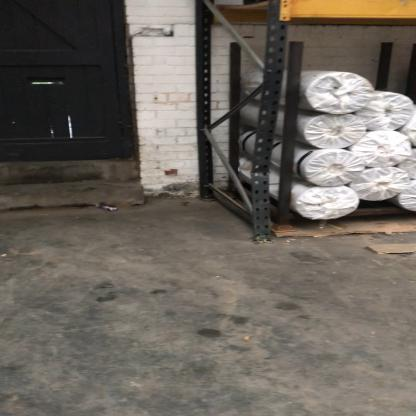vertical_damage: (243, 128, 281, 209)
